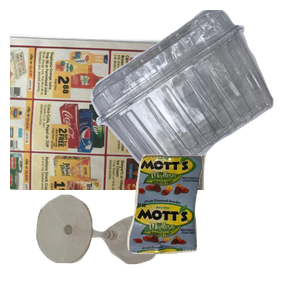glass: (34, 192, 187, 300)
paper: (10, 31, 214, 211)
plastic: (88, 10, 300, 180)
trash: (125, 152, 300, 300)
